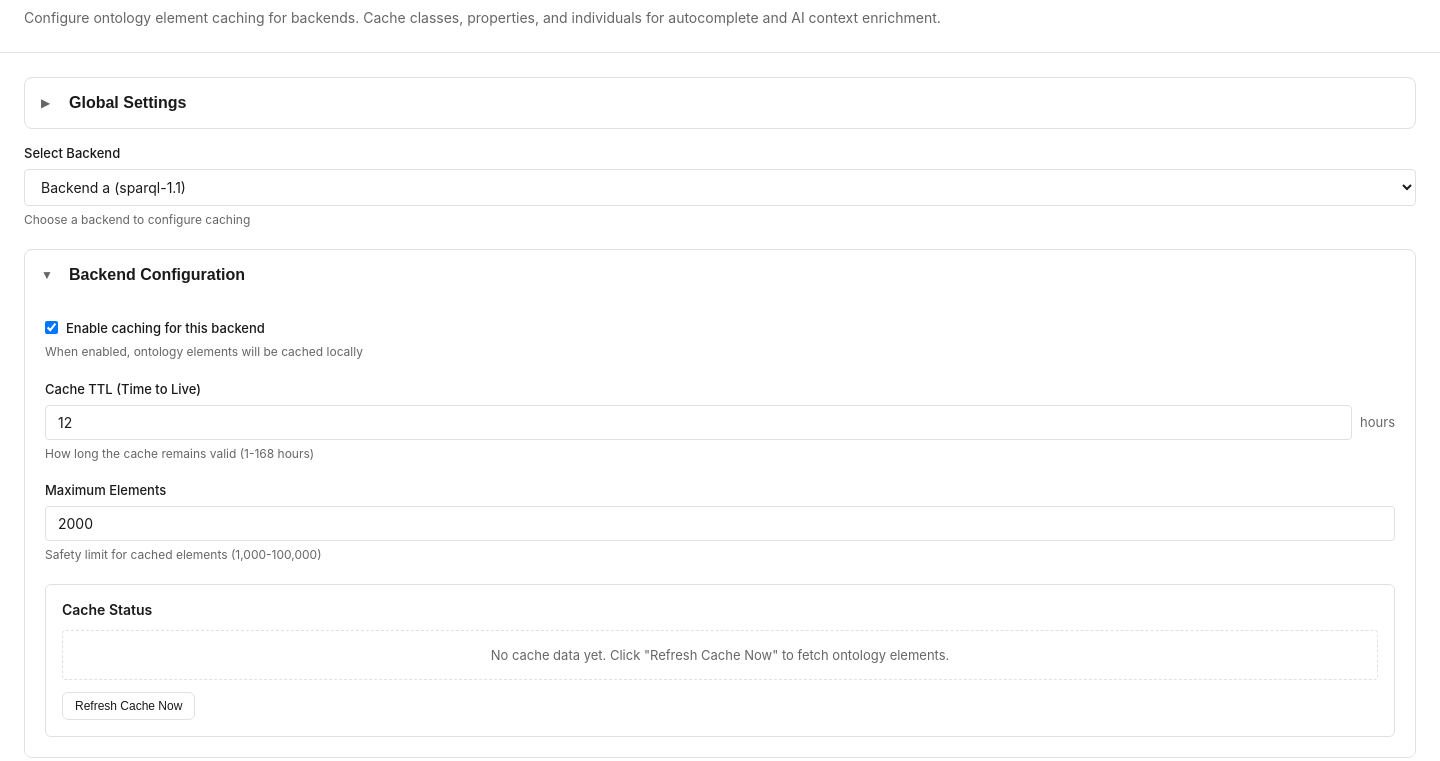
it: CacheSettingsView - backend configuration › shows refresh failures
Check: the text with class "no-cache-message" is shown, box [62, 630, 1378, 680]
What coordinates should you click on to do the following:
click the button "Refresh Cache Now"
I would click on:
 (129, 706)
Its box is [62, 692, 195, 720].
(page scrolled)
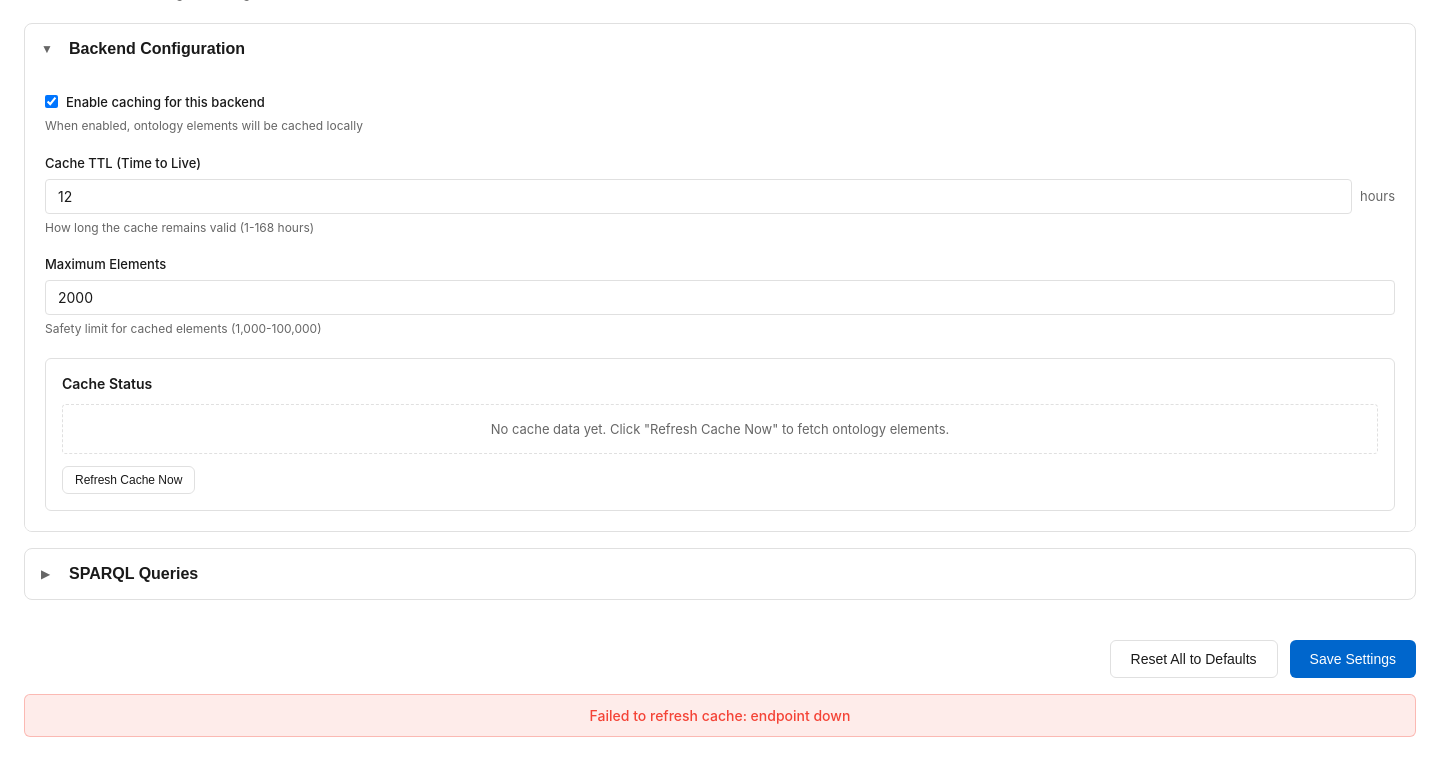
Check: the text with class "save-message" reads "Failed to refresh cache: endpoint down", box [590, 707, 850, 724]
